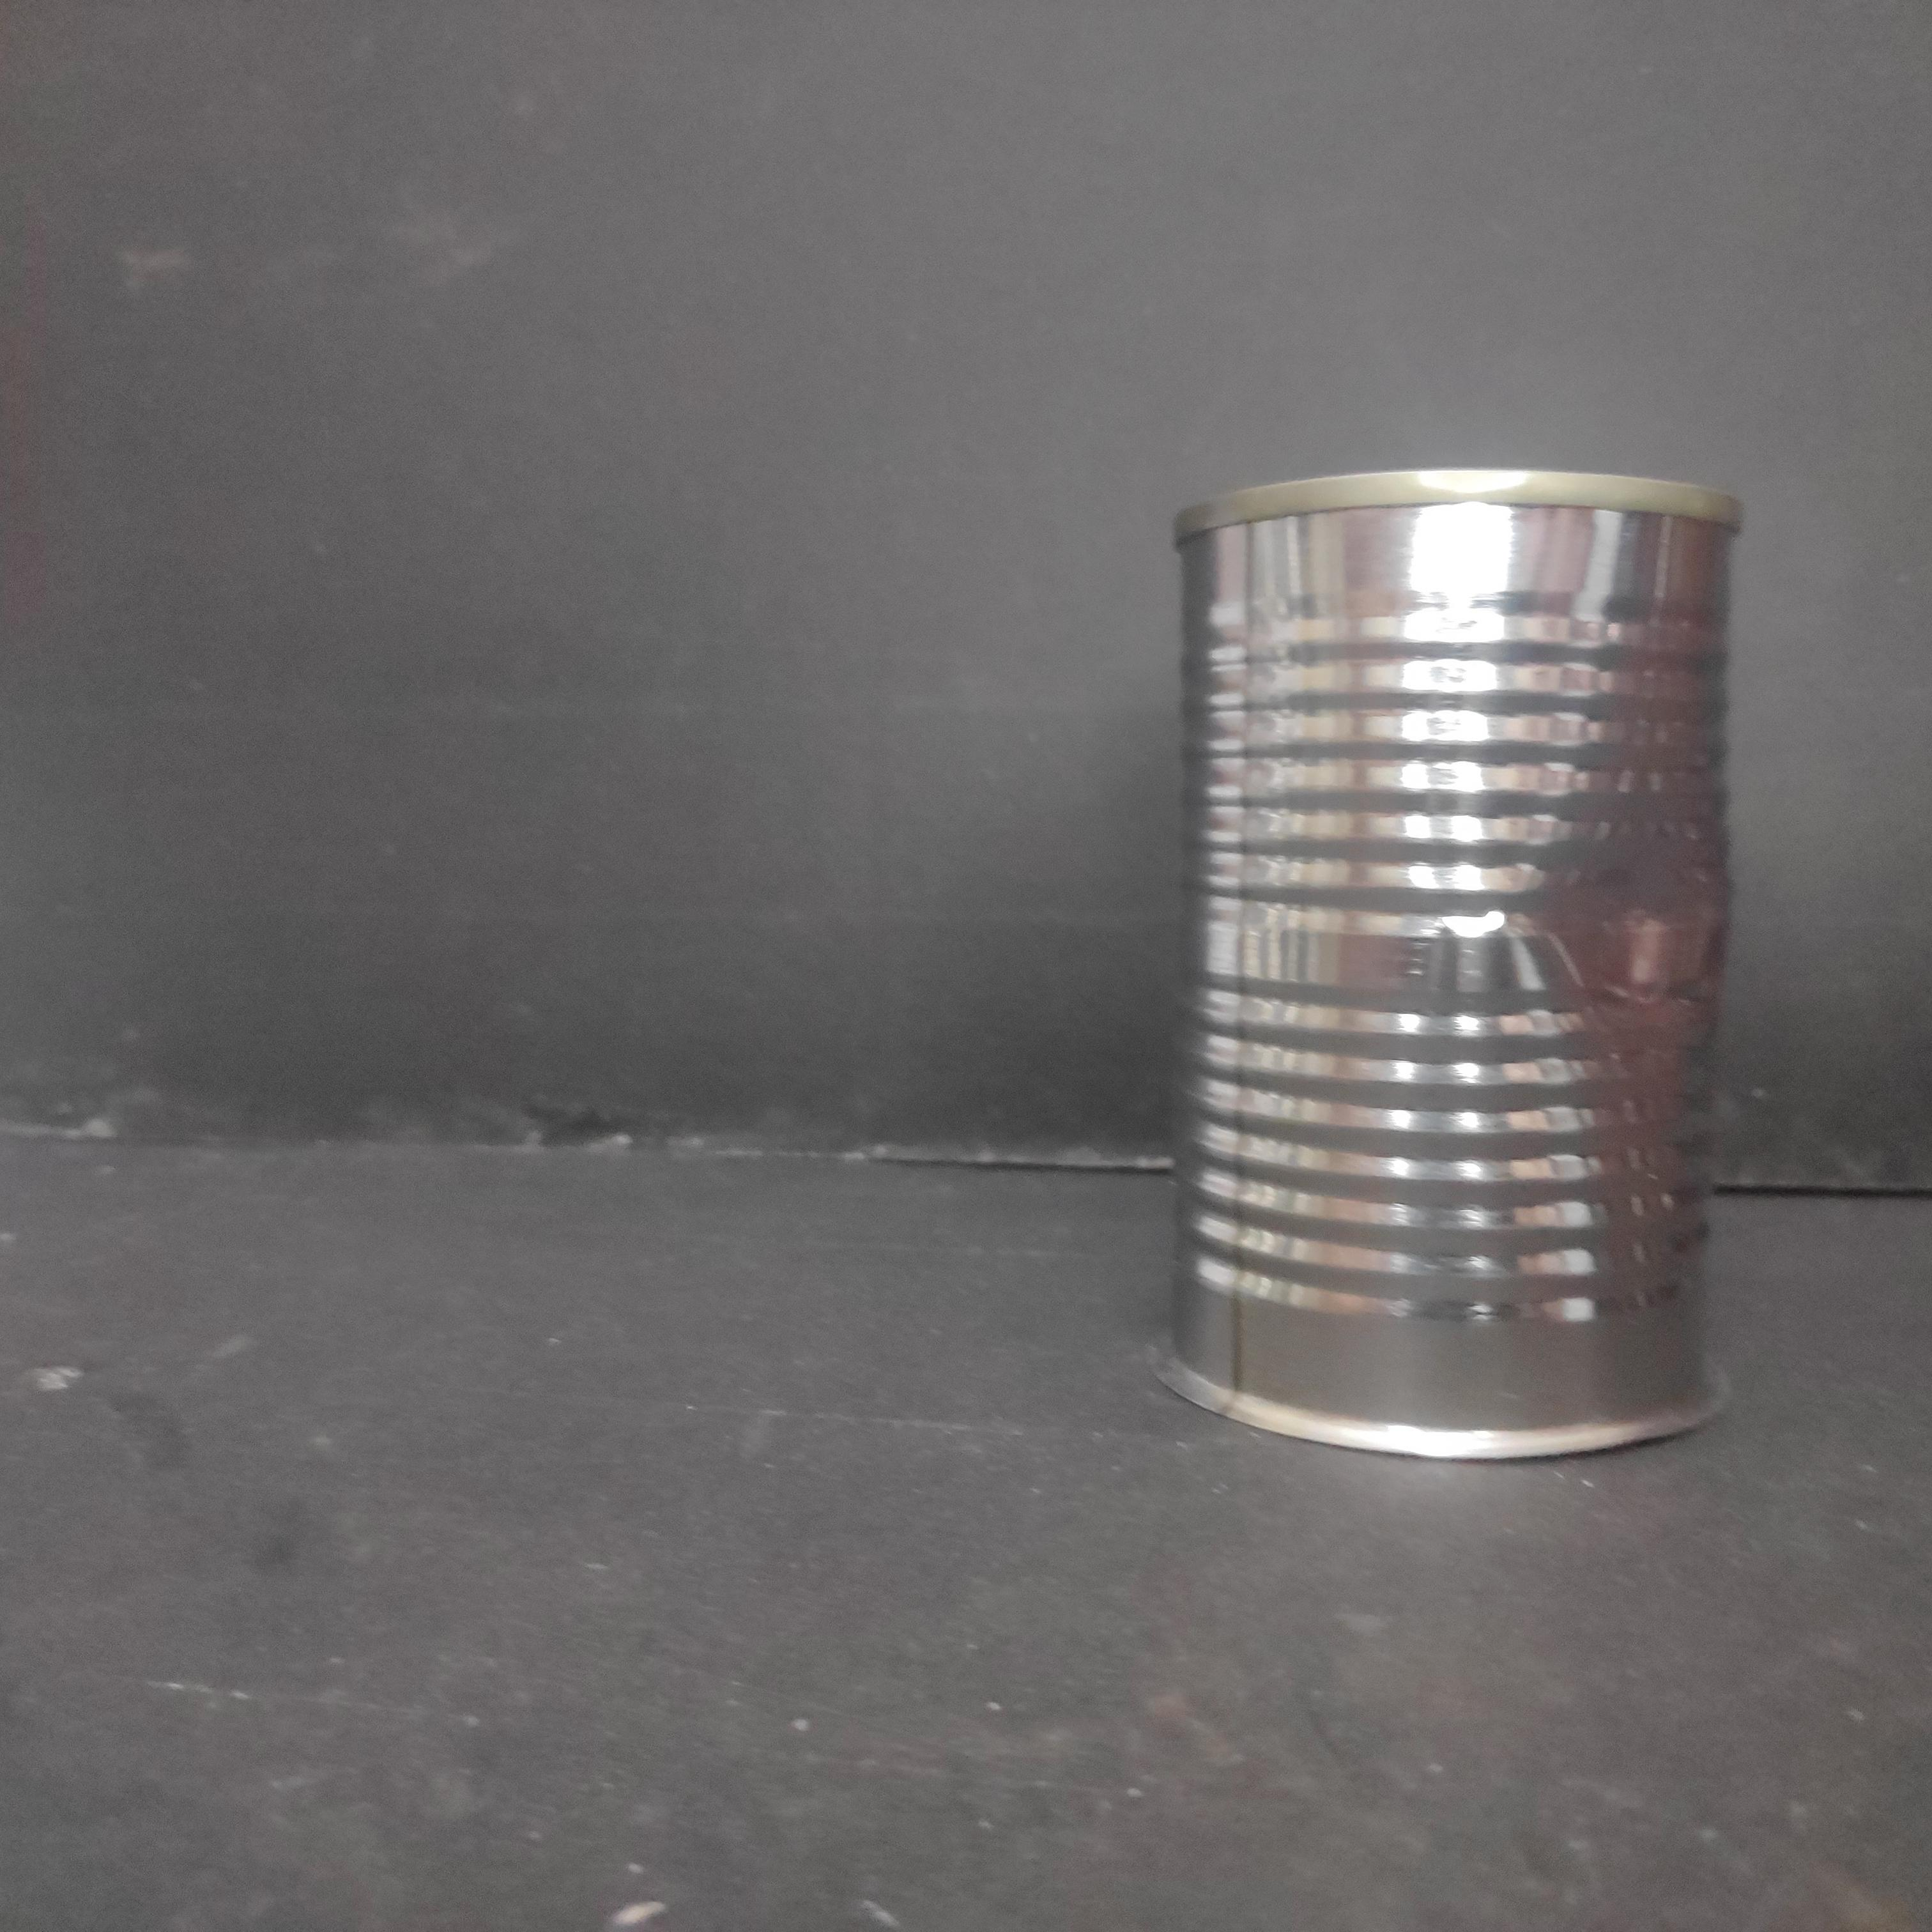Minor Defect: (1158, 461, 1754, 1482)
